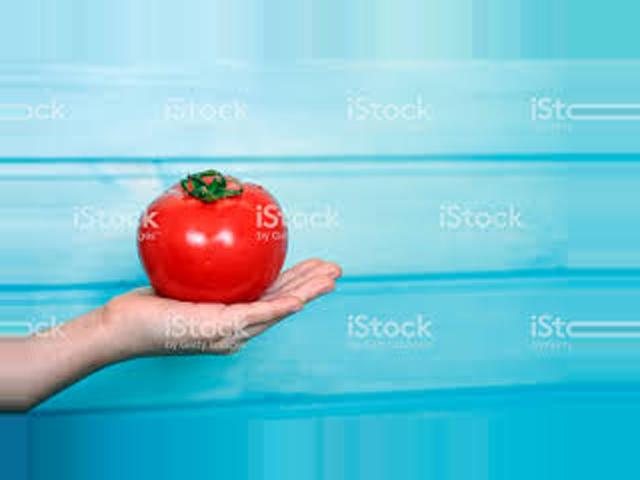tomato: (140, 172, 288, 304)
